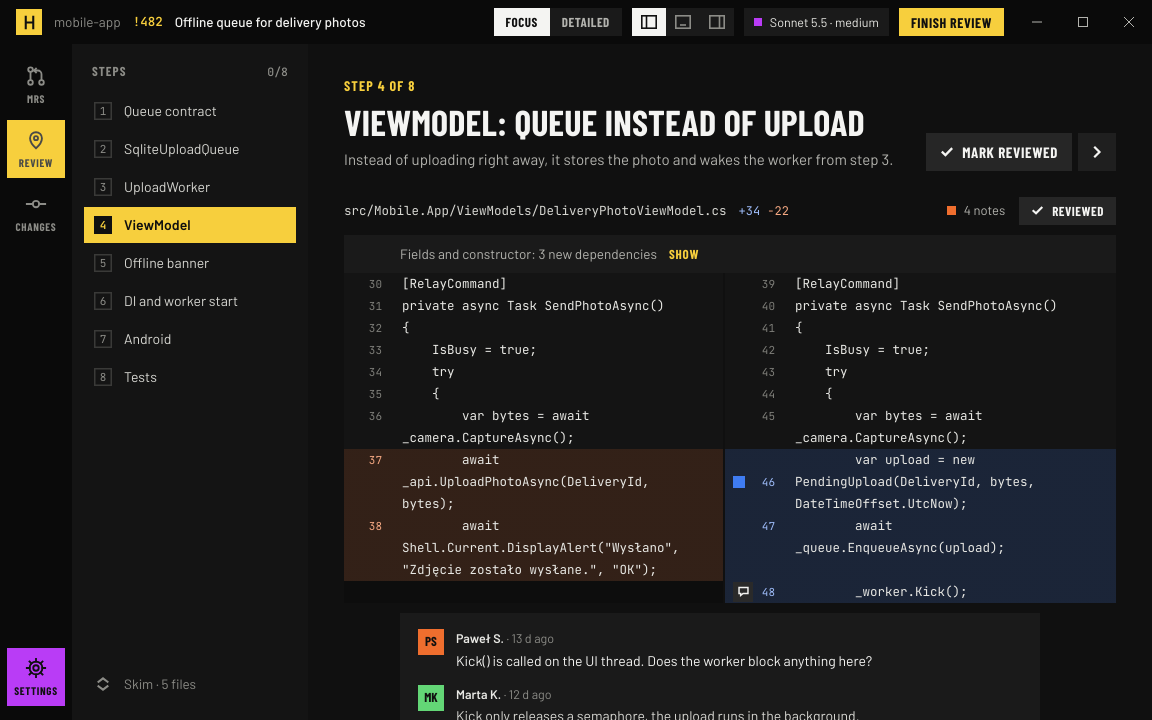
S-03 / S-04 mode toggle (F-08.1) › F-08.1 the focused note survives a switch to Detailed and back
This screenshot has width=1152, height=720.
Check: the text "Step 4 of 8" is shown, box x1=344 y1=77 x2=416 y2=94
Click the button named "Note 1: The whole photo goes into SQLite as byte[]": (739, 482) x1=733 y1=476 x2=745 y2=488
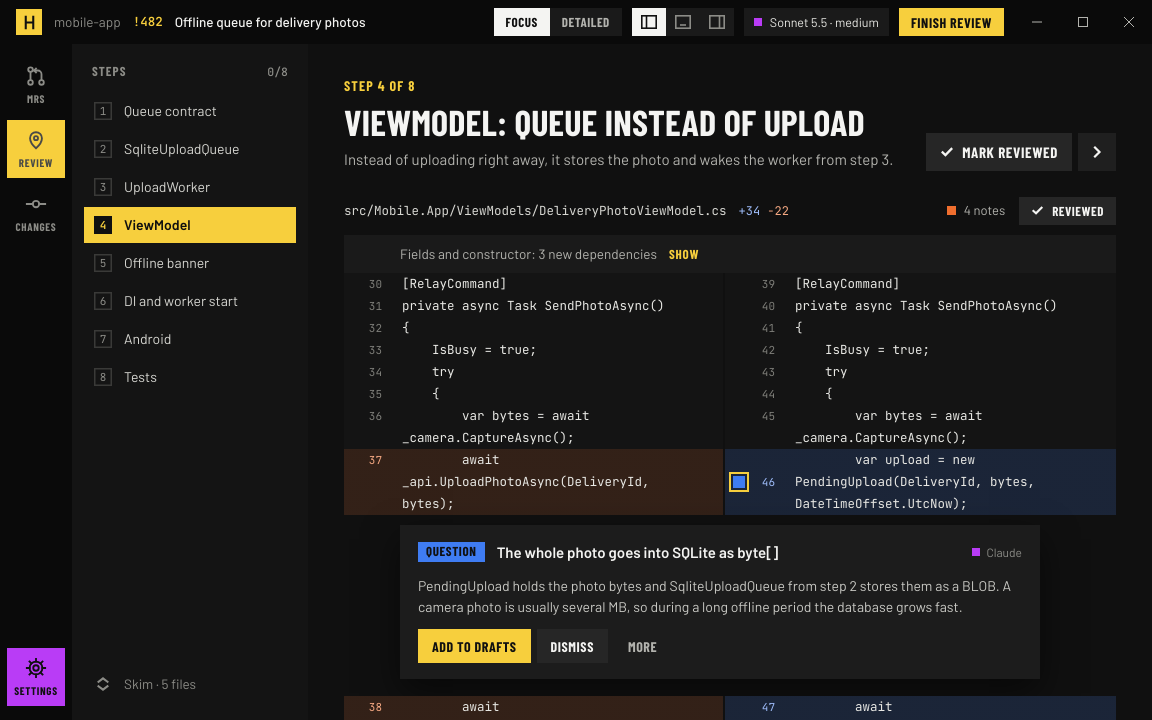
Type keys "{Control>}d{/Control}"
(page scrolled)
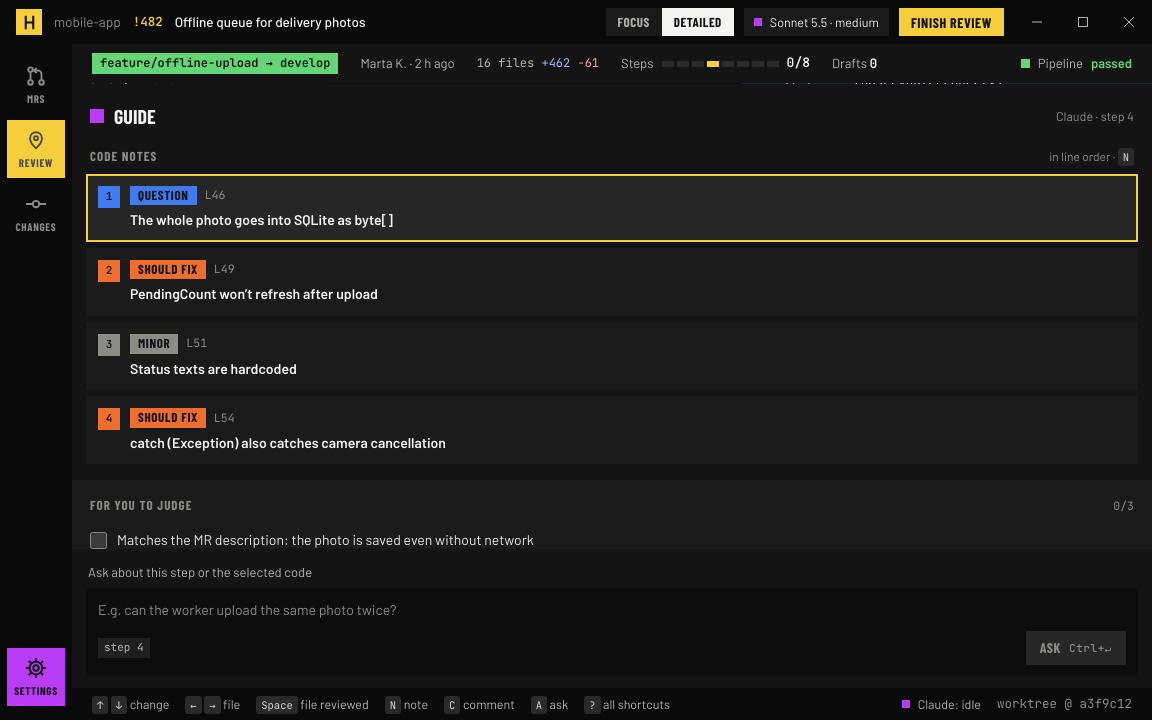
Check: the element "Guide" is shown
Type keys "{Control>}d{/Control}"
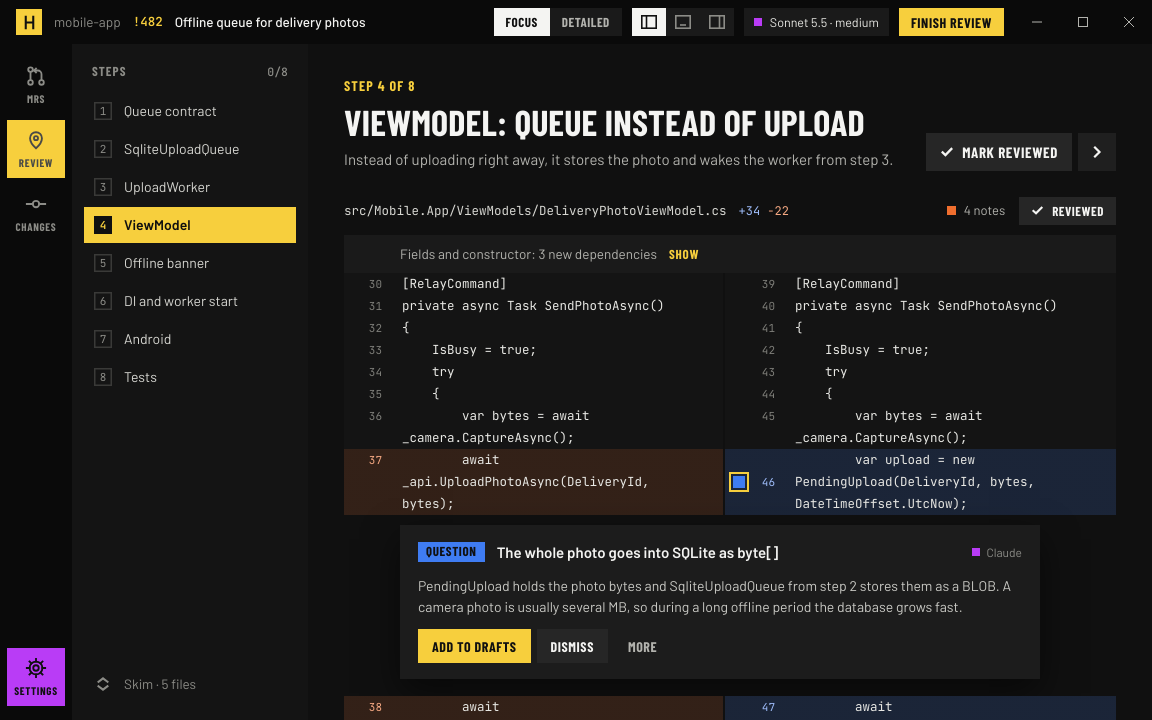
Check: the text "Step 4 of 8" is shown, box x1=344 y1=77 x2=416 y2=94
Check: the element named "Claude note: The whole photo goes into SQLite as byte[]" is shown, box x1=400 y1=525 x2=1040 y2=679
